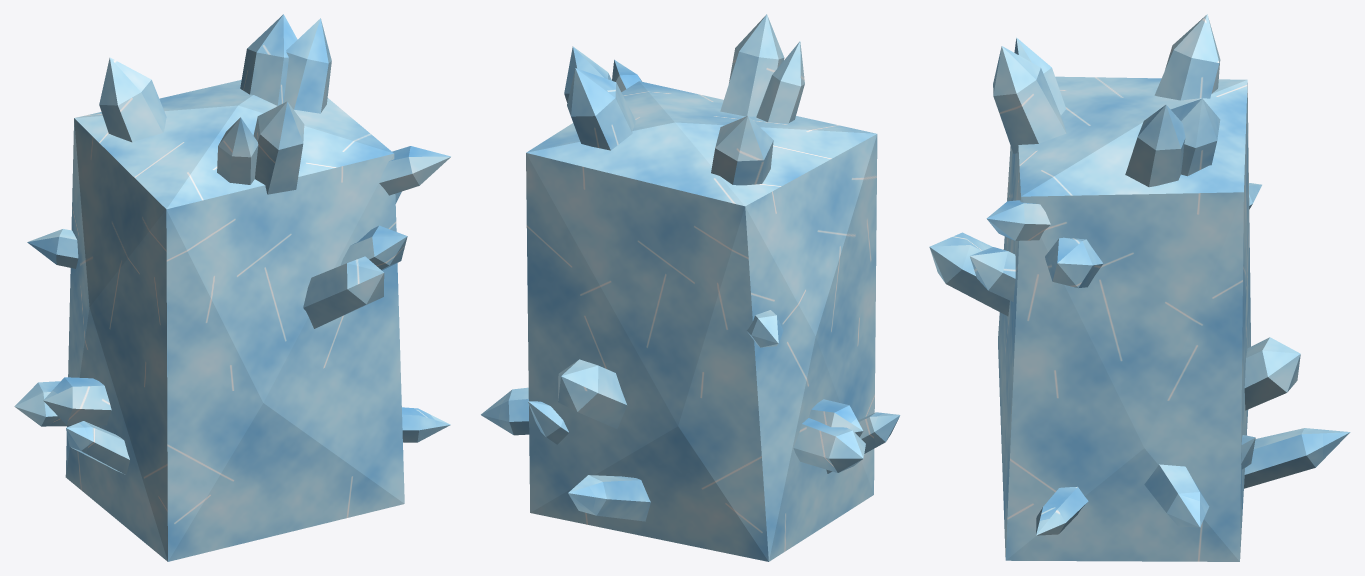
File: IceBlock.fbx
The picture shows the model from 3 angles, left to right: view 1: azimuth 30°, elevation 25°; view 2: azimuth 150°, elevation 25°; view 3: azimuth 270°, elevation 25°; orthographic projection. The views are drawn at different scales.
Visible parts, largest first — view 1: IceBlock; view 2: IceBlock; view 3: IceBlock.
Part boxes in pixels (x1,y1,x2,y2): IceBlock: [14, 14, 450, 561]; IceBlock: [481, 14, 900, 561]; IceBlock: [929, 14, 1350, 561].
Bounding box in the file's own units: 6.33 × 7.24 × 5.96.
Materials: 2 (1 with a texture image).
